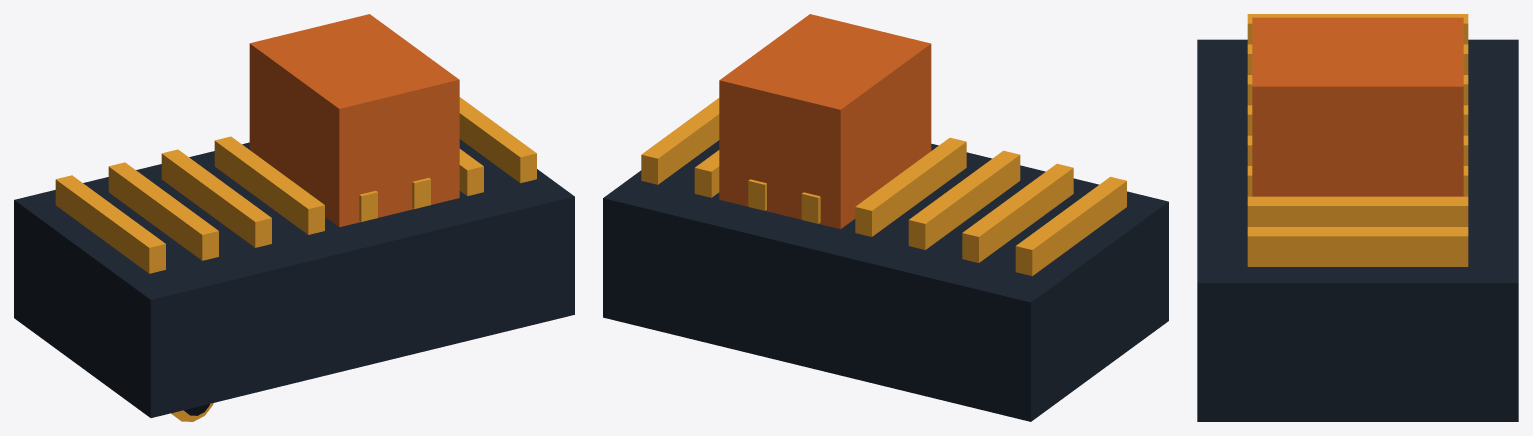
Rendered from 50_L87_PrecisionBalanceWeightActuatorB.fbx.
3 views of the same model, side by side, from view 1: azimuth 30°, elevation 25°; view 2: azimuth 150°, elevation 25°; view 3: azimuth 270°, elevation 25° (orthographic). The views are drawn at different scales.
Visible parts, largest first — view 1: L87_PrecisionBalanceWeightActuatorB, L87_PrecisionBalanceWeightActuatorB_Part_0002, L87_PrecisionBalanceWeightActuatorB_Part_0001; view 2: L87_PrecisionBalanceWeightActuatorB, L87_PrecisionBalanceWeightActuatorB_Part_0002, L87_PrecisionBalanceWeightActuatorB_Part_0001; view 3: L87_PrecisionBalanceWeightActuatorB, L87_PrecisionBalanceWeightActuatorB_Part_0002, L87_PrecisionBalanceWeightActuatorB_Part_0001.
Part boxes in pixels (x1,y1,x2,y2): L87_PrecisionBalanceWeightActuatorB: (14, 139, 574, 417); L87_PrecisionBalanceWeightActuatorB_Part_0002: (249, 14, 459, 227); L87_PrecisionBalanceWeightActuatorB_Part_0001: (55, 97, 536, 273); L87_PrecisionBalanceWeightActuatorB: (603, 140, 1168, 421); L87_PrecisionBalanceWeightActuatorB_Part_0002: (719, 14, 931, 229); L87_PrecisionBalanceWeightActuatorB_Part_0001: (641, 98, 1126, 276); L87_PrecisionBalanceWeightActuatorB: (1197, 39, 1518, 421); L87_PrecisionBalanceWeightActuatorB_Part_0002: (1252, 17, 1463, 196); L87_PrecisionBalanceWeightActuatorB_Part_0001: (1247, 14, 1468, 266).
Size of the model in its own units: 120 by 74.4 by 67.
